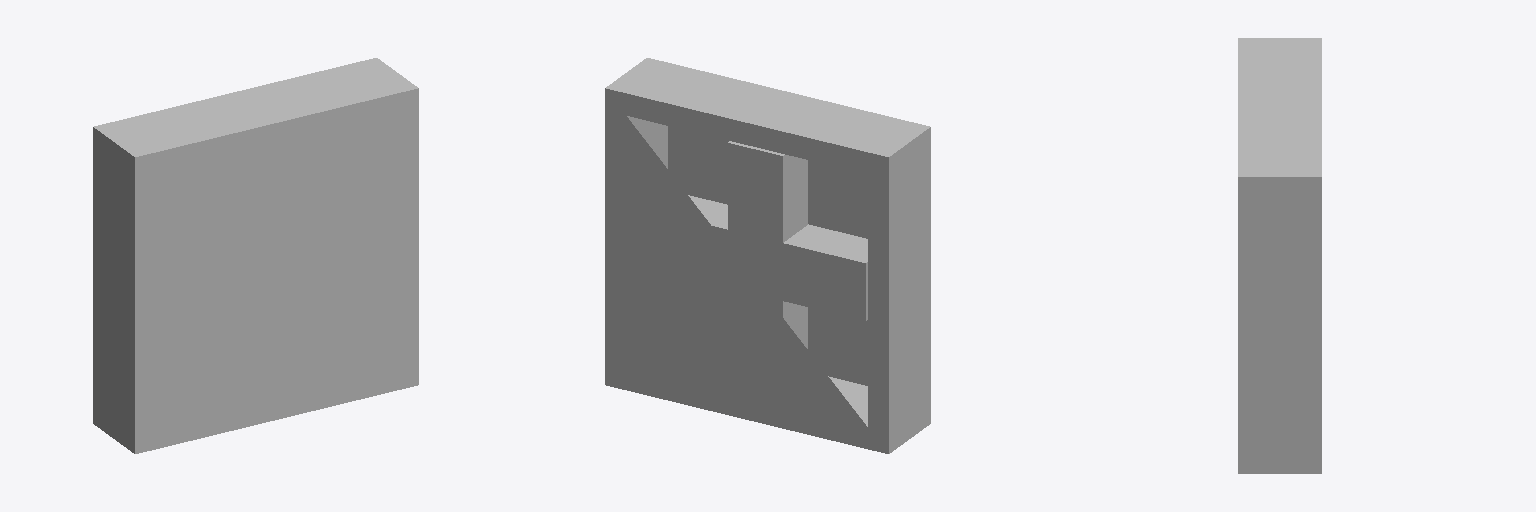
The model's file is Item_HPup.obj.
3 renders of one model, left to right at view 1: azimuth 30°, elevation 25°; view 2: azimuth 150°, elevation 25°; view 3: azimuth 270°, elevation 25°, orthographic.
Parts seen in each view (by area): view 1: polySurface4; view 2: polySurface4; view 3: polySurface4.
Boxes of the visible parts, box(x1,y1,x2,y2) form: polySurface4: box(93, 58, 418, 453); polySurface4: box(605, 58, 930, 453); polySurface4: box(1238, 38, 1321, 473).
Bounding box in the file's own units: 2.56 × 2.56 × 0.6569.